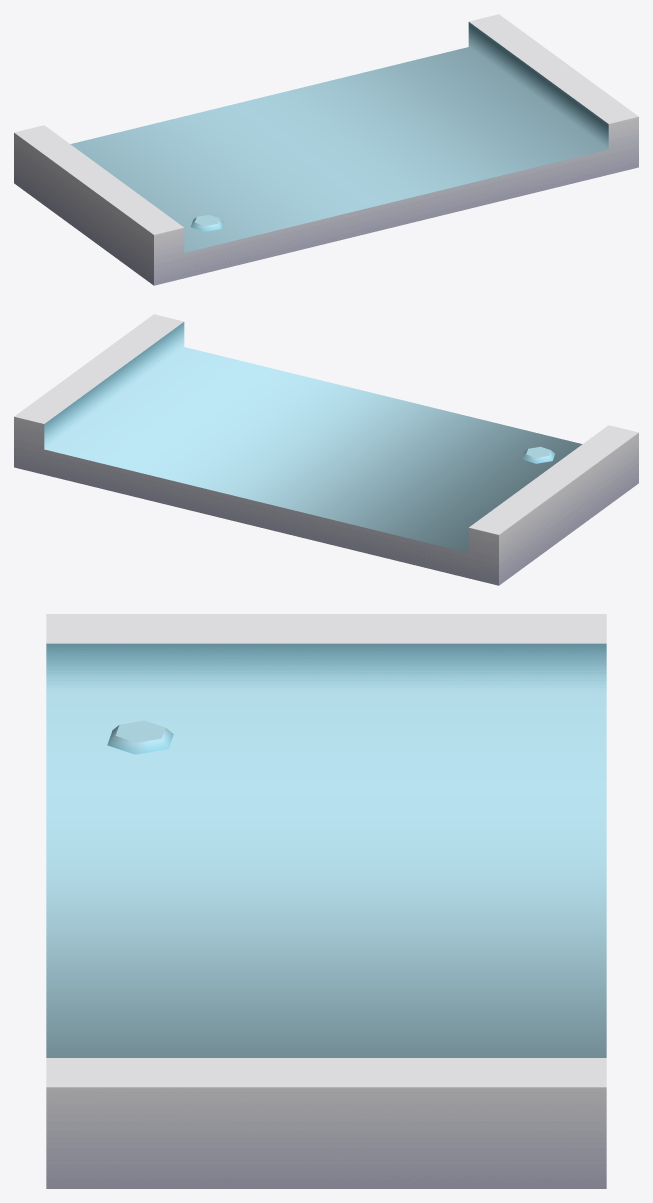
The model's file is tower-defense-kit--snow-tile-wide-straight.glb.
3 renders of one model, top to bottom at view 1: azimuth 30°, elevation 25°; view 2: azimuth 150°, elevation 25°; view 3: azimuth 270°, elevation 25°, orthographic. The views are drawn at different scales.
Parts seen in each view (by area): view 1: snow-tile-wide-straight; view 2: snow-tile-wide-straight; view 3: snow-tile-wide-straight.
Part boxes in pixels (x1,y1,x2,y2): snow-tile-wide-straight: (14,14,638,285); snow-tile-wide-straight: (14,314,638,585); snow-tile-wide-straight: (46,614,606,1188).
Bounding box in the file's own units: 2 × 0.2 × 1.
1 material, 1 textured.
